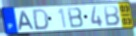1: (57, 8, 67, 29)
4: (90, 5, 104, 28)
A: (18, 10, 36, 31)
B: (66, 7, 85, 29), (103, 4, 121, 27)
D: (33, 8, 50, 31)
